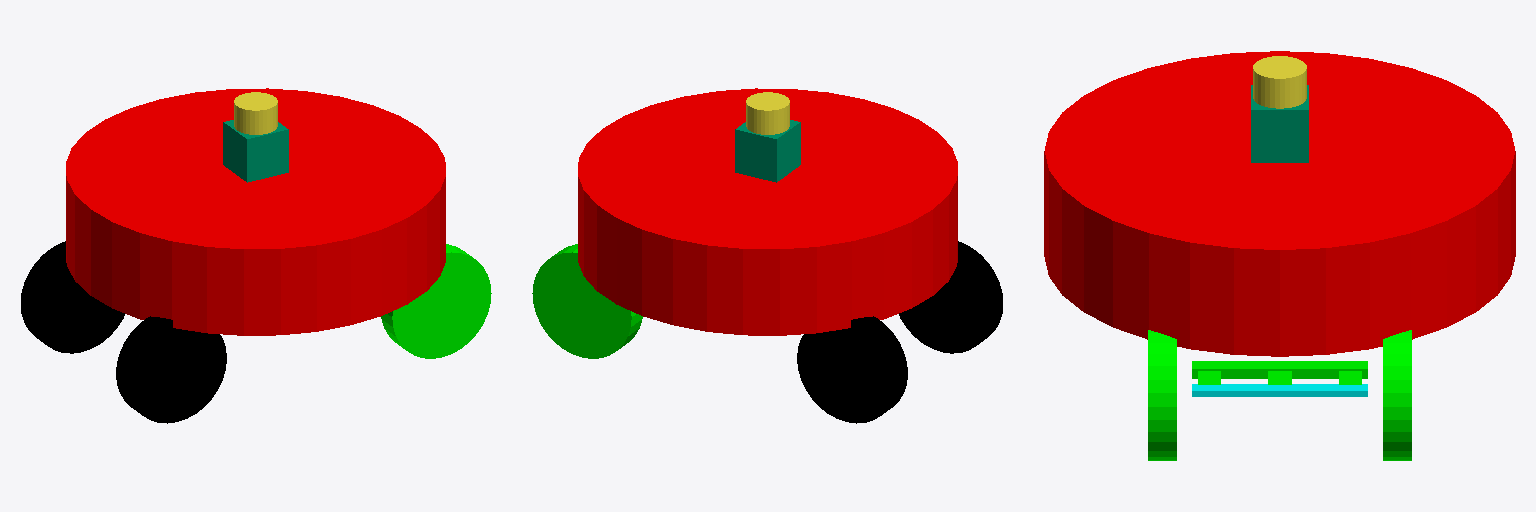
robot.urdf — navgroup:
<?xml version="1.0" ?>
<!-- =================================================================================== -->
<!-- |    This document was autogenerated by xacro from car.urdf.xacro                 | -->
<!-- |    EDITING THIS FILE BY HAND IS NOT RECOMMENDED                                 | -->
<!-- =================================================================================== -->
<robot name="navgroup" xmlns:body="http://playerstage.sourceforge.net/gazebo/xmlschema/#body" xmlns:controller="http://playerstage.sourceforge.net/gazebo/xmlschema/#controller" xmlns:gazebo="http://playerstage.sourceforge.net/gazebo/xmlschema/#gz" xmlns:geom="http://playerstage.sourceforge.net/gazebo/xmlschema/#geom" xmlns:interface="http://playerstage.sourceforge.net/gazebo/xmlschema/#interface" xmlns:joint="http://playerstage.sourceforge.net/gazebo/xmlschema/#joint" xmlns:model="http://playerstage.sourceforge.net/gazebo/xmlschema/#model" xmlns:physics="http://playerstage.sourceforge.net/gazebo/xmlschema/#physics" xmlns:rendering="http://playerstage.sourceforge.net/gazebo/xmlschema/#rendering" xmlns:sensor="http://playerstage.sourceforge.net/gazebo/xmlschema/#sensor" xmlns:xacro="http://www.ros.org/wiki/xacro">
  <!-- Physical Constant Macros -->
  <!-- Dimension Macros -->
  <!-- Physical Material Macros -->
  <material name="Red">
    <color rgba="1.0 0 0 1.0"/>
  </material>
  <material name="Green">
    <color rgba="0 1.0 0 1.0"/>
  </material>
  <material name="Blue">
    <color rgba="0 0 1.0 0.5"/>
  </material>
  <material name="Black">
    <color rgba="0 0 0 1.0"/>
  </material>
  <material name="Aqua">
    <color rgba="0 255 255 1.0"/>
  </material>
  <!-- Main body -->
  <link name="base_link">
    <inertial>
      <mass value="10"/>
      <origin xyz="0 0 0"/>
      <inertia ixx="0.2" ixy="0.0" ixz="0.0" iyy="0.2" iyz="0.0" izz="0.2"/>
    </inertial>
    <visual>
      <origin rpy="0 0 0" xyz="0 0 0"/>
      <geometry>
        <cylinder radius="0.2" length="0.1"/>
      </geometry>
      <material name="Red"/>
    </visual>
    <collision>
      <origin rpy="0 0 0" xyz="0 0 0"/>
      <geometry>
        <cylinder radius="0.2" length="0.1"/>
      </geometry>
    </collision>
  </link>

  <!-- Front link of Ackermann -->
  <!-- Joins to the Car body -->
  <joint name="front_joint" type="fixed">
    <parent link="base_link"/>
    <child link="front_link"/>
    <origin xyz="0.16 0.0 -0.1"/>
  </joint>
  <link name="front_link">
    <inertial>
      <mass value="0.01"/>
      <origin xyz="0 0 0"/>
      <inertia ixx="0.01" ixy="0.0" ixz="0.0" iyy="0.01" iyz="0.0" izz="0.01"/>
    </inertial>
    <visual>
      <geometry>
        <box size="0.015 0.15 0.005"/>
      </geometry>
      <material name="Aqua"/>
    </visual>
    <collision>
      <geometry>
        <box size="0.015 0.15 0.005"/>
      </geometry>
    </collision>
  </link>

  <!-- a link aligned with the steer direction -->
  <joint name="steer_joint" type="fixed">
    <limit effort="100" lower="-0.5" upper="0.5" velocity="10"/>
    <axis xyz="0 0 1"/>
    <parent link="front_link"/>
    <child link="steer_link"/>
    <origin rpy="0 0 0" xyz="0.0 0.0 0.0"/>
  </joint>
  <link name="steer_link">
    <inertial>
      <mass value="0.01"/>
      <origin xyz="0 0 0"/>
      <inertia ixx="0.01" ixy="0.0" ixz="0.0" iyy="0.01" iyz="0.0" izz="0.01"/>
    </inertial>
    <visual>
      <origin xyz="-0.02 0 0"/>
      <geometry>
        <box size="0.03 0.01995 0.005"/>
      </geometry>
      <material name="Green"/>
    </visual>
    <collision>
      <origin xyz="0.02 0 0"/>
      <geometry>
        <box size="0.03 0.01995 0.005"/>
      </geometry>
    </collision>
  </link>

  <!-- the left Ackermann bar -->
  <joint name="front_left_bar_joint" type="revolute">
    <limit effort="100" lower="-0.5" upper="0.5" velocity="10"/>
    <axis xyz="0 0 1"/>
    <parent link="front_link"/>
    <child link="front_left_bar_link"/>
    <origin rpy="0 0 0" xyz="0.0 0.06 0.0"/>
  </joint>
  <link name="front_left_bar_link">
    <inertial>
      <mass value="0.01"/>
      <origin xyz="0 0 0"/>
      <inertia ixx="0.01" ixy="0.0" ixz="0.0" iyy="0.01" iyz="0.0" izz="0.01"/>
    </inertial>
    <visual>
      <origin xyz="-0.02 0 0"/>
      <geometry>
        <box size="0.03 0.01995 0.005"/>
      </geometry>
      <material name="Green"/>
    </visual>
    <collision>
      <origin xyz="-0.02 0 0"/>
      <geometry>
        <box size="0.03 0.01995 0.005"/>
      </geometry>
    </collision>
  </link>

  <!-- the right Ackermann bar -->
  <joint name="front_right_bar_joint" type="revolute">
    <limit effort="100" lower="-0.5" upper="0.5" velocity="10"/>
    <axis xyz="0 0 1"/>
    <parent link="front_link"/>
    <child link="front_right_bar_link"/>
    <origin rpy="0 0 0" xyz="0.0 -0.06 0.0"/>
  </joint>
  <link name="front_right_bar_link">
    <inertial>
      <mass value="0.01"/>
      <origin xyz="0 0 0"/>
      <inertia ixx="0.01" ixy="0.0" ixz="0.0" iyy="0.01" iyz="0.0" izz="0.01"/>
    </inertial>
    <visual>
      <origin xyz="-0.02 0 0"/>
      <geometry>
        <box size="0.03 0.01995 0.005"/>
      </geometry>
      <material name="Green"/>
    </visual>
    <collision>
      <origin xyz="-0.02 0 0"/>
      <geometry>
        <box size="0.03 0.01995 0.005"/>
      </geometry>
    </collision>
  </link>

  <!-- the front left wheel -->
  <joint name="front_left_wheel_joint" type="continuous">
    <axis xyz="0 1 0"/>
    <parent link="front_left_bar_link"/>
    <child link="front_left_wheel_link"/>
    <origin rpy="0 0 0" xyz="0 0.04 0"/>
  </joint>
  <link name="front_left_wheel_link">
    <inertial>
      <mass value="0.01"/>
      <origin xyz="0 0 0"/>
      <inertia ixx="0.01" ixy="0.0" ixz="0.0" iyy="0.01" iyz="0.0" izz="0.01"/>
    </inertial>
    <visual>
      <origin rpy="1.57079632679 0 0" xyz="0 0 0"/>
      <geometry>
        <cylinder length="0.025" radius="0.06"/>
      </geometry>
      <material name="Green"/>
    </visual>
    <collision>
      <origin rpy="1.57079632679 0 0" xyz="0 0 0"/>
      <geometry>
        <cylinder length="0.025" radius="0.06"/>
      </geometry>
    </collision>
  </link>

  <!-- the front right wheel -->
  <joint name="front_right_wheel_joint" type="continuous">
    <axis xyz="0 1 0"/>
    <parent link="front_right_bar_link"/>
    <child link="front_right_wheel_link"/>
    <origin rpy="0 0 0" xyz="0 -0.04 0"/>
  </joint>
  <link name="front_right_wheel_link">
    <inertial>
      <mass value="0.01"/>
      <origin xyz="0 0 0"/>
      <inertia ixx="0.01" ixy="0.0" ixz="0.0" iyy="0.01" iyz="0.0" izz="0.01"/>
    </inertial>
    <visual>
      <origin rpy="1.57079632679 0 0" xyz="0 0 0"/>
      <geometry>
        <cylinder length="0.025" radius="0.06"/>
      </geometry>
      <material name="Green"/>
    </visual>
    <collision>
      <origin rpy="1.57079632679 0 0" xyz="0 0 0"/>
      <geometry>
        <cylinder length="0.025" radius="0.06"/>
      </geometry>
    </collision>
  </link>

  <!-- the Ackerman bar -->
  <joint name="ackermann_joint" type="fixed">
    <limit effort="100" lower="-0.5" upper="0.5" velocity="10"/>
    <axis xyz="0 0 1"/>
    <parent link="steer_link"/>
    <child link="ackermann_bar_link"/>
    <origin rpy="0 0 0" xyz="-0.04 0 0"/>
  </joint>
  <link name="ackermann_bar_link">
    <inertial>
      <mass value="0.01"/>
      <origin xyz="0 0 0"/>
      <inertia ixx="0.01" ixy="0.0" ixz="0.0" iyy="0.01" iyz="0.0" izz="0.01"/>
    </inertial>
    <visual>
      <geometry>
        <box size="0.015 0.15 0.01"/>
      </geometry>
      <material name="Green"/>
    </visual>
    <collision>
      <geometry>
        <box size="0.015 0.15 0.01"/>
      </geometry>
    </collision>
  </link>

  <!-- the back left wheel -->
  <joint name="back_left_wheel_joint" type="continuous">
    <axis xyz="0 1 0"/>
    <parent link="base_link"/>
    <child link="back_left_wheel_link"/>
    <origin rpy="0 0 0" xyz="-0.16 0.1 -0.1"/>
  </joint>
  <link name="back_left_wheel_link">
    <inertial>
      <mass value="0.01"/>
      <origin xyz="0 0 0"/>
      <inertia ixx="0.01" ixy="0.0" ixz="0.0" iyy="0.01" iyz="0.0" izz="0.01"/>
    </inertial>
    <visual>
      <origin rpy="1.57079632679 0 0" xyz="0 0 0"/>
      <geometry>
        <cylinder length="0.025" radius="0.06"/>
      </geometry>
      <material name="Black"/>
    </visual>
    <collision>
      <origin rpy="1.57079632679 0 0" xyz="0 0 0"/>
      <geometry>
        <cylinder length="0.025" radius="0.06"/>
      </geometry>
    </collision>
  </link>
  <!-- the back right wheel -->
  <joint name="back_right_wheel_joint" type="continuous">
    <axis xyz="0 1 0"/>
    <parent link="base_link"/>
    <child link="back_right_wheel_link"/>
    <origin rpy="0 0 0" xyz="-0.16 -0.1 -0.1"/>
  </joint>
  <link name="back_right_wheel_link">
    <inertial>
      <mass value="0.01"/>
      <origin xyz="0 0 0"/>
      <inertia ixx="0.01" ixy="0.0" ixz="0.0" iyy="0.01" iyz="0.0" izz="0.01"/>
    </inertial>
    <visual>
      <origin rpy="1.57079632679 0 0" xyz="0 0 0"/>
      <geometry>
        <cylinder length="0.025" radius="0.06"/>
      </geometry>
      <material name="Black"/>
    </visual>
    <collision>
      <origin rpy="1.57079632679 0 0" xyz="0 0 0"/>
      <geometry>
        <cylinder length="0.025" radius="0.06"/>
      </geometry>
    </collision>
  </link>
  <joint name="laser_base_mount_joint" type="fixed">
    <origin rpy="0 0 0" xyz="0 0 0.05"/>
    <parent link="base_link"/>
    <child link="laser_base_link"/>
  </joint>
  <link name="laser_base_link" type="fixed">
    <inertial>
      <mass value="0.1"/>
      <origin xyz="0 0 0.0"/>
      <inertia ixx="0.1" ixy="0" ixz="0" iyy="0.1" iyz="0" izz="0.1"/>
    </inertial>
    <visual>
      <origin rpy="0 0 0" xyz="0 0 0.025"/>
      <geometry>
        <box size="0.05 0.05 0.05"/>
      </geometry>
    </visual>
    <collision>
      <origin rpy="0 0 0" xyz="0 0 0.025"/>
      <geometry>
        <box size="0.05 0.05 0.05"/>
      </geometry>
    </collision>
  </link>
  <joint name="base_scan_joint" type="fixed">
    <origin rpy="0 0 0" xyz="0 0 0.05"/>
    <parent link="laser_base_link"/>
    <child link="base_scan_link"/>
  </joint>
  <link name="base_scan_link" type="laser">
    <inertial>
      <mass value="0.1"/>
      <origin xyz="0 0 0.0"/>
      <inertia ixx="0.1" ixy="0" ixz="0" iyy="0.1" iyz="0" izz="0.1"/>
    </inertial>
    <visual>
      <origin rpy="0 0 0" xyz="0 0 0.014"/>
      <geometry>
        <cylinder length="0.028" radius="0.0229"/>
      </geometry>
    </visual>
    <collision>
      <origin rpy="0 0 0" xyz="0 0 0.014"/>
      <geometry>
        <cylinder length="0.028" radius="0.0229"/>
      </geometry>
    </collision>
  </link>
</robot>

--- What the picture shows (computed from the rendered views, not written in the file) ---
The picture shows the robot from 3 angles, left to right: view 1: azimuth 30°, elevation 25°; view 2: azimuth 150°, elevation 25°; view 3: azimuth 270°, elevation 25°; orthographic projection.
Robot: navgroup — 12 links, 11 joints (2 revolute, 4 continuous, 5 fixed); root link base_link; default pose: every joint at zero.
Visible links, largest first — view 1: base_link, back_right_wheel_link, front_right_wheel_link, back_left_wheel_link, laser_base_link, base_scan_link; view 2: base_link, back_left_wheel_link, front_left_wheel_link, back_right_wheel_link, laser_base_link, base_scan_link; view 3: base_link, front_left_wheel_link, front_right_wheel_link, laser_base_link, ackermann_bar_link, base_scan_link, front_link.
Link boxes in pixels (x1=…): base_link: x1=66, y1=88, x2=445, y2=335; back_right_wheel_link: x1=116, y1=316, x2=226, y2=423; front_right_wheel_link: x1=381, y1=244, x2=491, y2=358; back_left_wheel_link: x1=21, y1=241, x2=124, y2=353; laser_base_link: x1=223, y1=120, x2=288, y2=182; base_scan_link: x1=234, y1=92, x2=277, y2=134; base_link: x1=578, y1=88, x2=957, y2=335; back_left_wheel_link: x1=797, y1=316, x2=907, y2=423; front_left_wheel_link: x1=532, y1=244, x2=642, y2=358; back_right_wheel_link: x1=899, y1=241, x2=1002, y2=353; laser_base_link: x1=735, y1=120, x2=800, y2=182; base_scan_link: x1=746, y1=92, x2=789, y2=134; base_link: x1=1044, y1=51, x2=1515, y2=356; front_left_wheel_link: x1=1383, y1=330, x2=1411, y2=460; front_right_wheel_link: x1=1148, y1=330, x2=1176, y2=460; laser_base_link: x1=1251, y1=85, x2=1308, y2=162; ackermann_bar_link: x1=1192, y1=361, x2=1367, y2=378; base_scan_link: x1=1253, y1=56, x2=1306, y2=108; front_link: x1=1192, y1=384, x2=1367, y2=396.
Size in the robot's own frame: 0.44 by 0.4 by 0.288 metres.
Geometry: primitives only (box / cylinder / sphere), no mesh files.